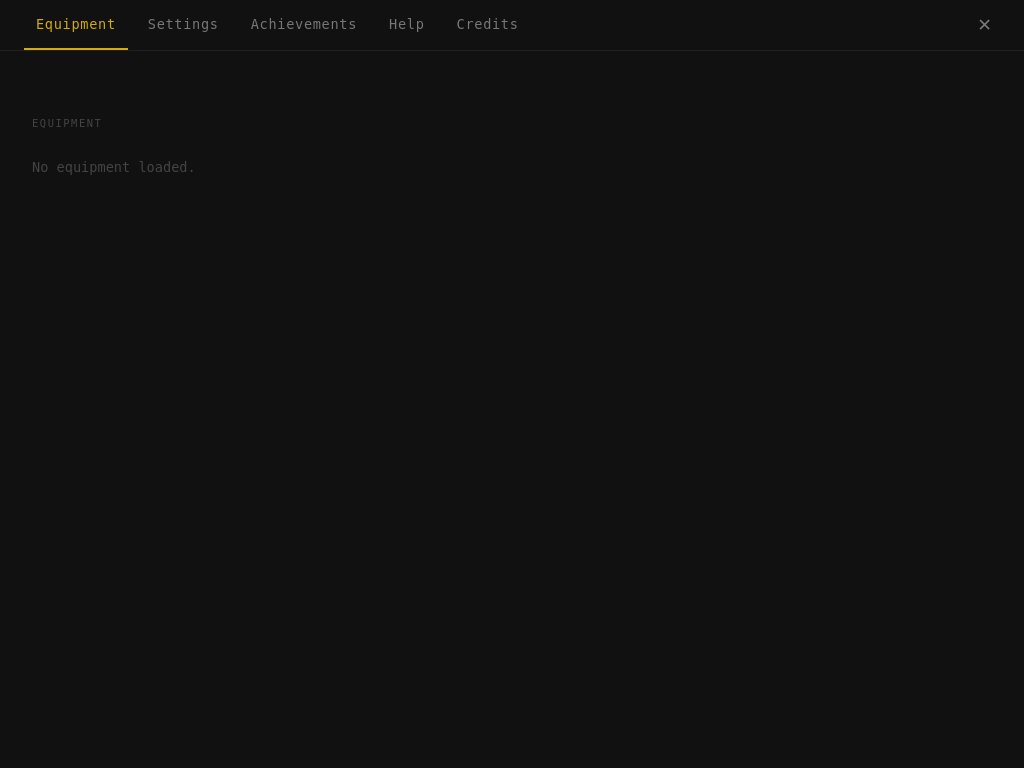
Test: CharacterScreen › clicking a tab switches the visible panel
Check: the element with class "equipment-panel" is shown, box [32,117,196,175]
Click the button with class "tab-btn" showing "Settings". click: {"x": 183, "y": 25}
box: [136,0,231,50]
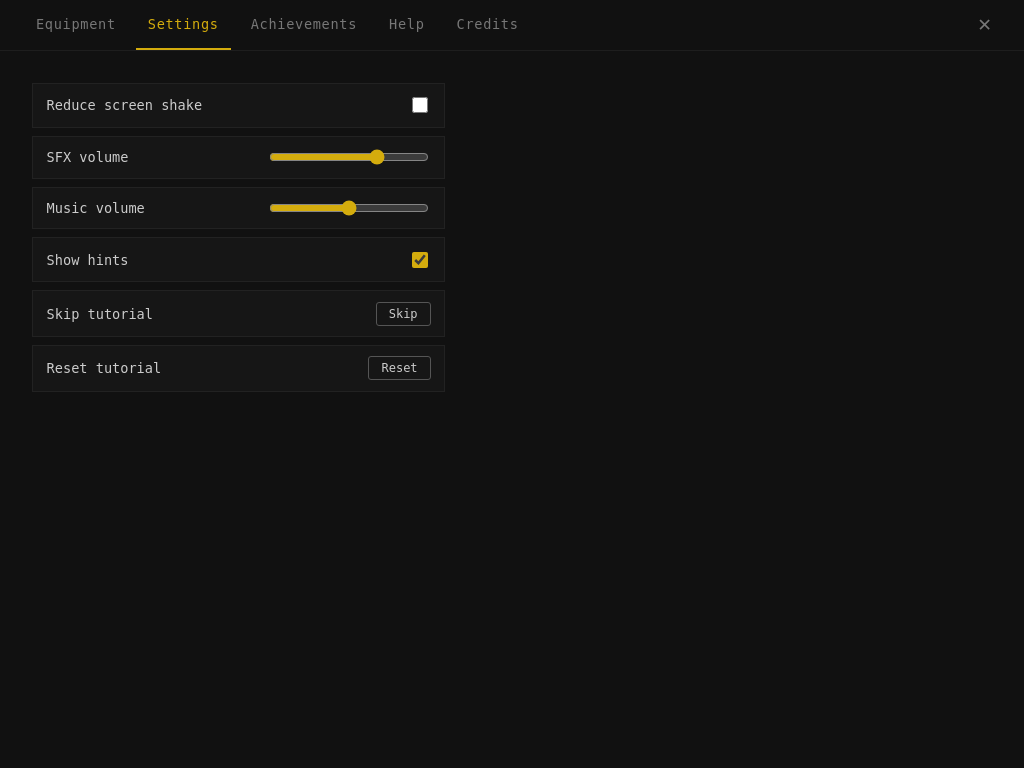
Check: the element with class "equipment-panel" is gone
Check: the number of labels with class "setting-row" is 6, box [32,83,445,128]; [32,136,445,179]; [32,187,445,229]; [32,237,445,282]; [32,290,445,337]; [32,345,445,392]
